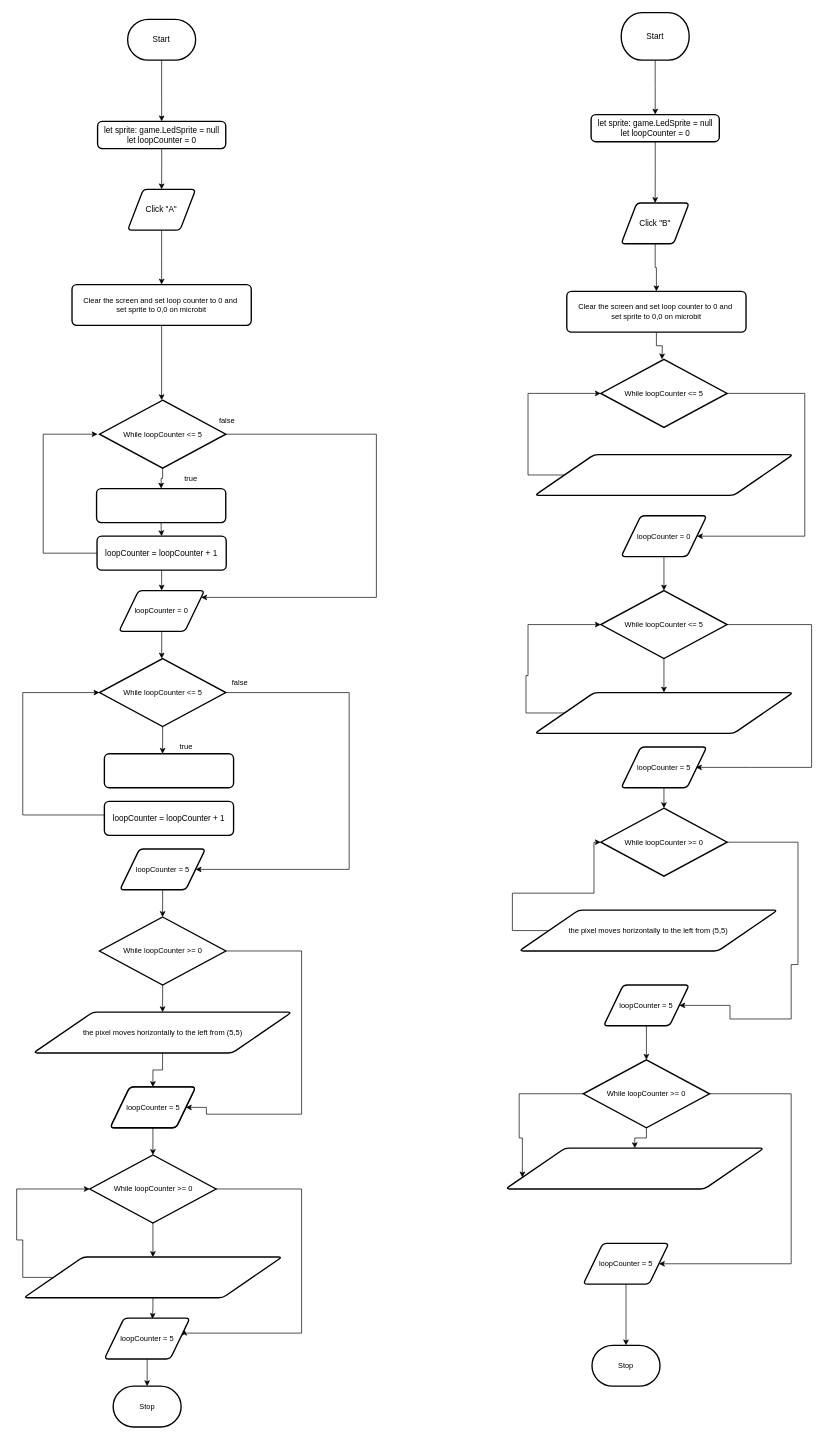
Image size: 829x1439. Some labels were removed from this diagram. Each missing label, with the box of its shape:
the pixel moves to the left from (5,5): (505, 1147, 764, 1189)
the pixel moves vertically down from (5,0): (103, 753, 234, 788)
the pixel moves vertically up from (0,5): (23, 1256, 282, 1298)
the pixels moves horizontally to the right from the origin: (96, 488, 226, 523)
the pixels moves vertically down from the origin: (534, 454, 793, 496)
the point moves horizontally to the right from (5,0): (534, 692, 793, 734)
